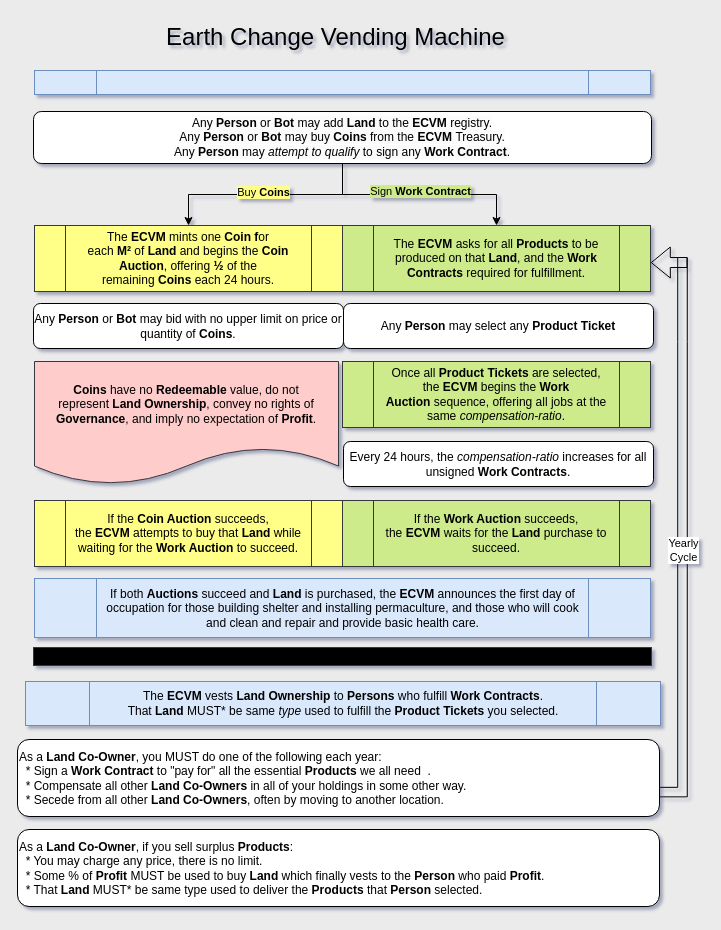
The diagram is 721 pixels wide and 930 high, and some of its shapes have lost their labels. Each missing label, with the centre of its shape:
"Coin holders do not receive Product Tickets and do not gain Land Ownership ." goes at [342,656].
"The ECVM asks for the Price and Coordinates of Land currently for sale." goes at [342,82].
